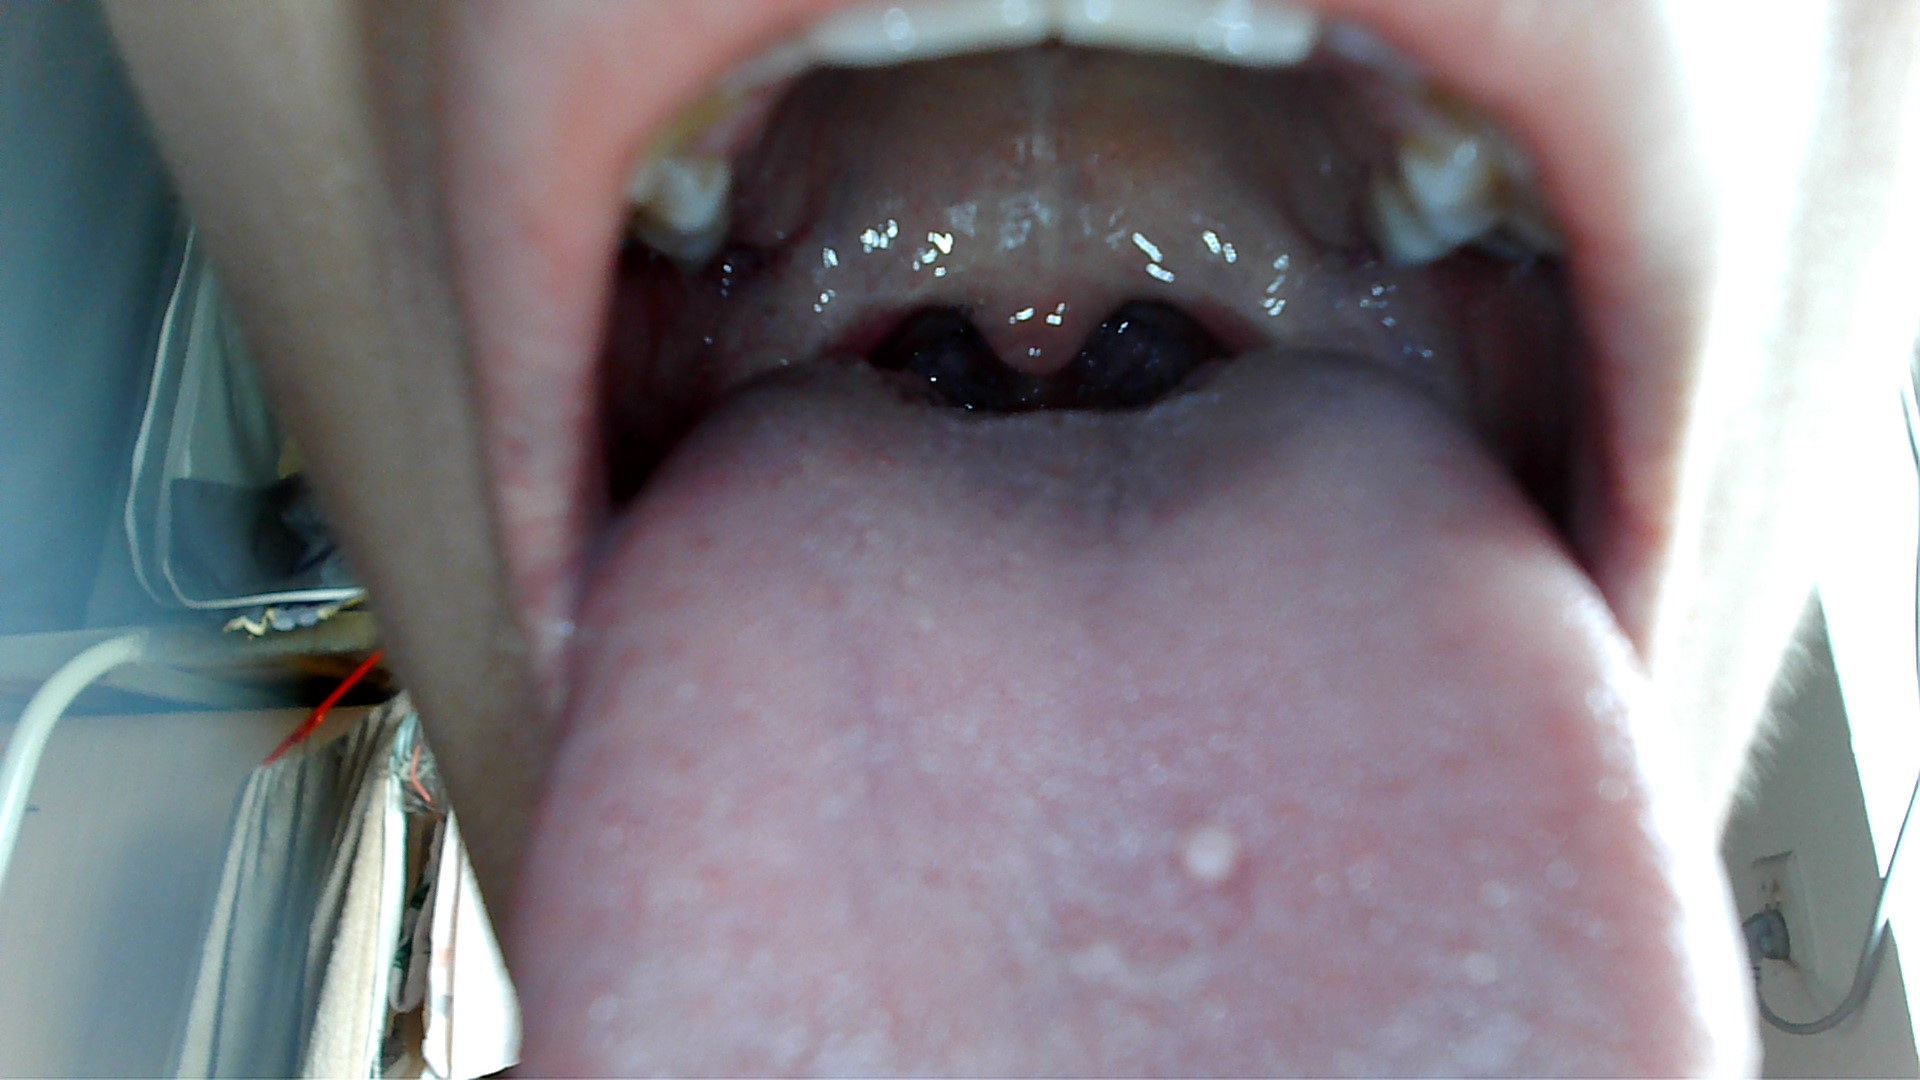throat: (727, 272, 894, 368), (1182, 256, 1338, 356)
